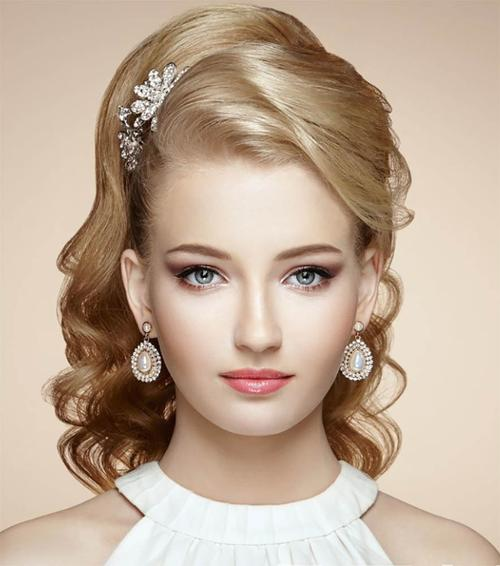no_mask: (132, 134, 373, 417)
